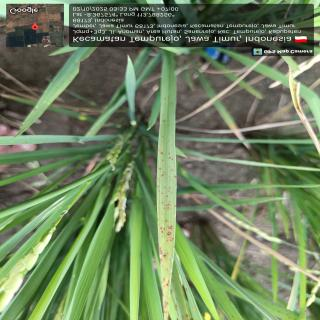bercak-Cokelat: (158, 148, 177, 238)
